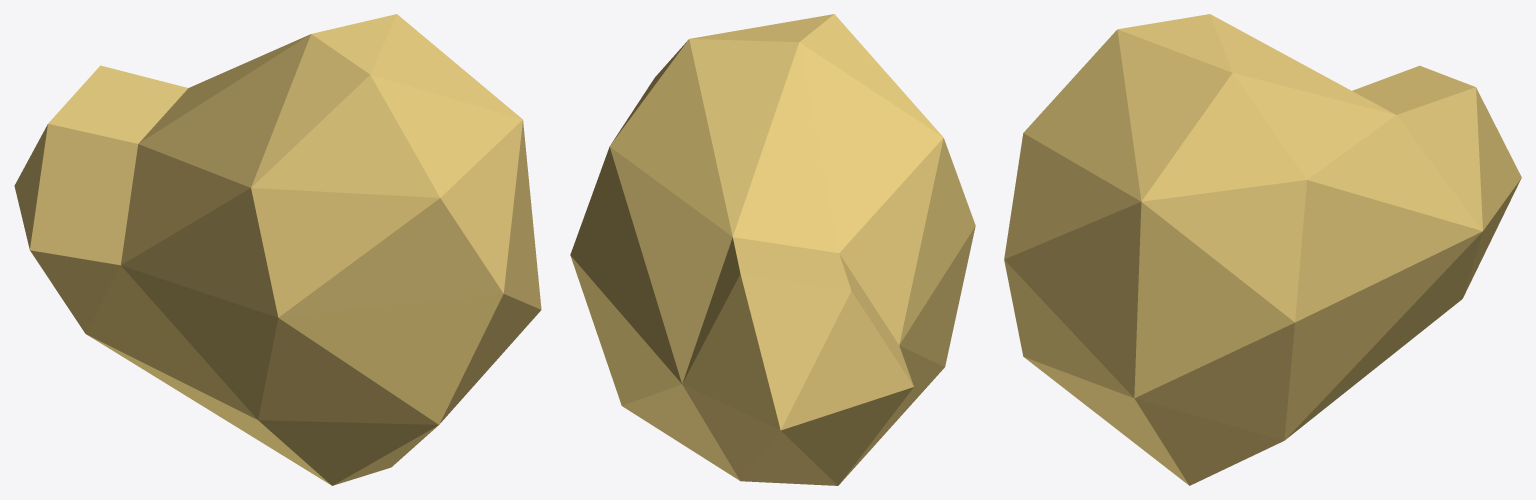
The model's file is 01_01Rock_Orange.fbx.
The picture shows the model from 3 angles, left to right: view 1: azimuth 30°, elevation 25°; view 2: azimuth 150°, elevation 25°; view 3: azimuth 270°, elevation 25°; orthographic projection. The views are drawn at different scales.
Visible parts, largest first — view 1: Icosphere.022; view 2: Icosphere.022; view 3: Icosphere.022.
Part boxes in pixels (x1,y1,x2,y2): Icosphere.022: (14, 14, 541, 485); Icosphere.022: (570, 14, 975, 485); Icosphere.022: (1004, 14, 1521, 485).
Bounding box in the file's own units: 116 × 126 × 135.
